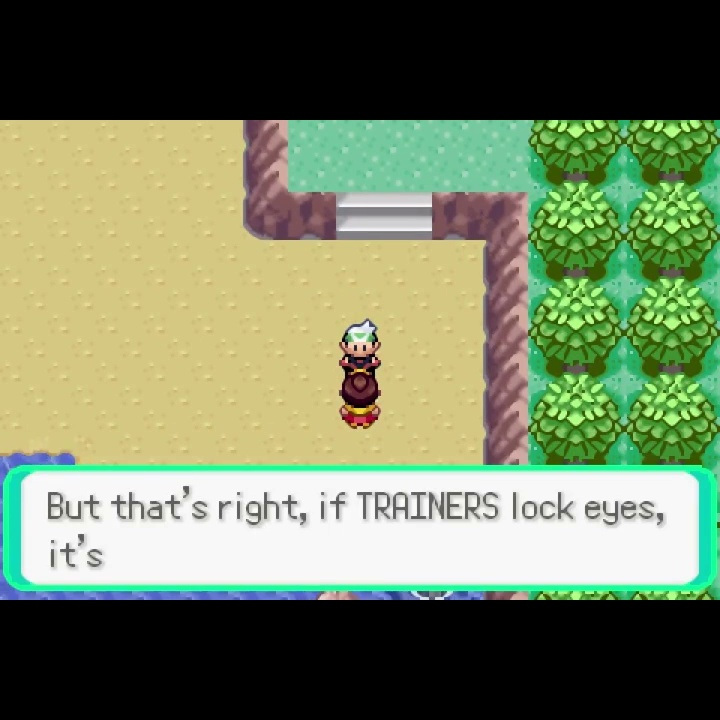npc: (335, 371, 383, 432), (336, 318, 383, 369)
wall: (527, 275, 625, 372), (624, 180, 720, 277), (529, 370, 624, 465), (625, 370, 720, 465), (528, 183, 623, 278), (625, 276, 720, 370), (528, 121, 626, 185), (624, 119, 720, 181)
